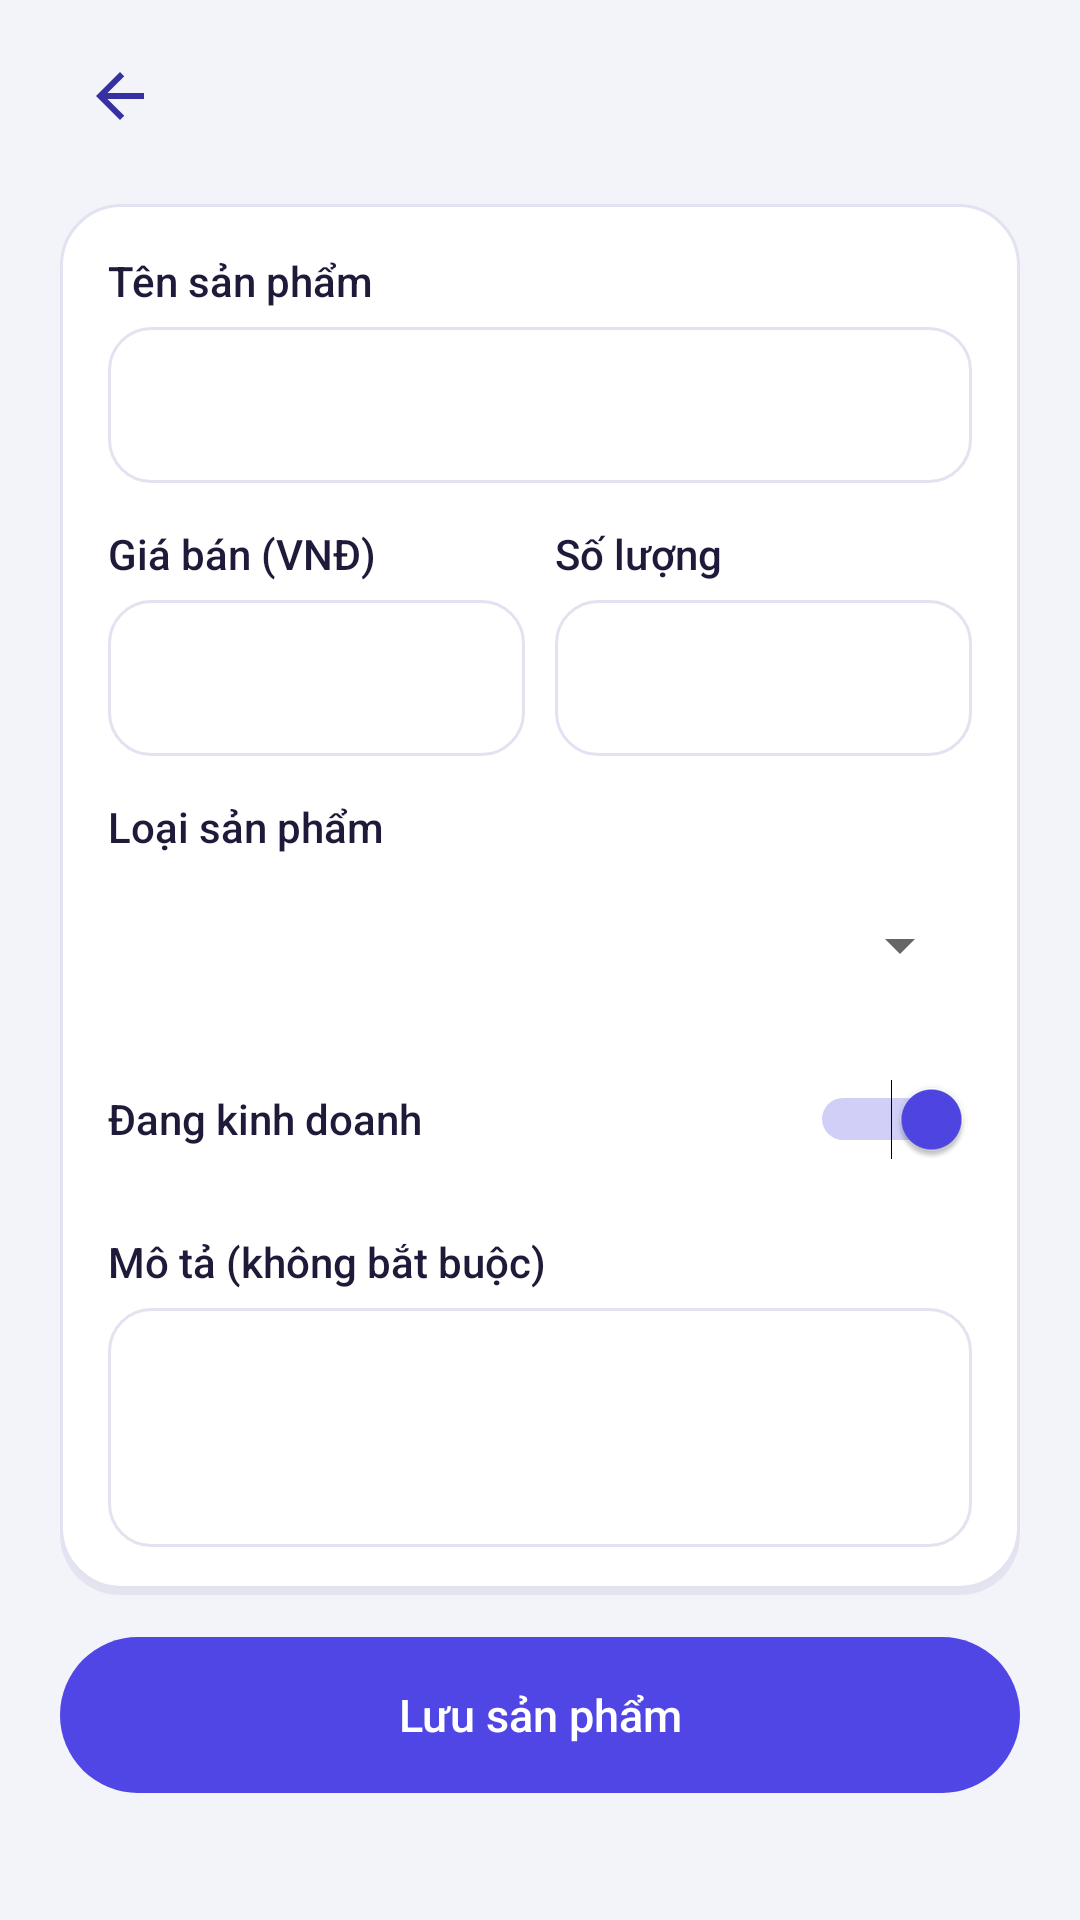

Where icons sit on this 1080*1920 app screen, as (x1, y1, x2, y2):
Quay lại: (96, 72, 144, 120)
